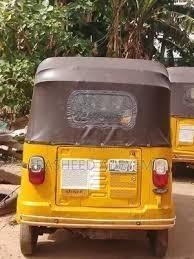keke: (15, 55, 180, 259)
